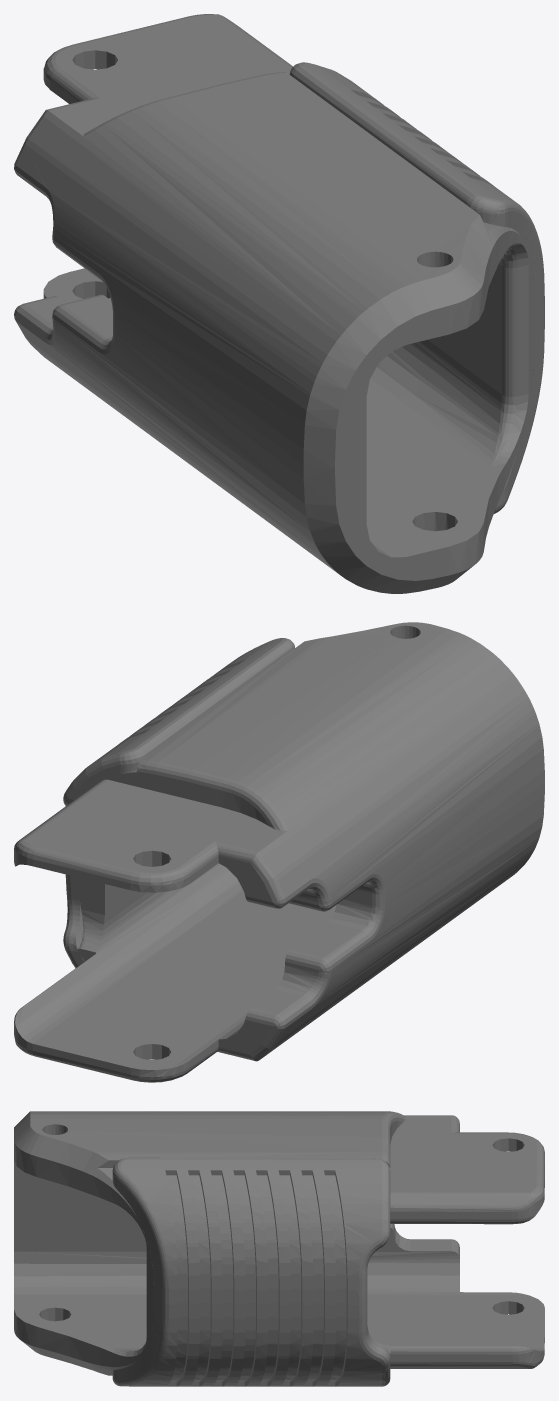
File: rh_index_proximal_vis.obj
The picture shows the model from 3 angles, top to bottom: view 1: azimuth 30°, elevation 25°; view 2: azimuth 150°, elevation 25°; view 3: azimuth 270°, elevation 25°; orthographic projection. The views are drawn at different scales.
Parts seen in each view (by area): view 1: rh_index_proximal; view 2: rh_index_proximal; view 3: rh_index_proximal.
Part boxes in pixels (left/top/right/bottom): rh_index_proximal: left=14, top=14, right=544, bottom=593; rh_index_proximal: left=14, top=622, right=544, bottom=1082; rh_index_proximal: left=14, top=1111, right=544, bottom=1386.
Size of the model in its own units: 0.0171 by 0.0154 by 0.0328.
1 material, 1 textured.
